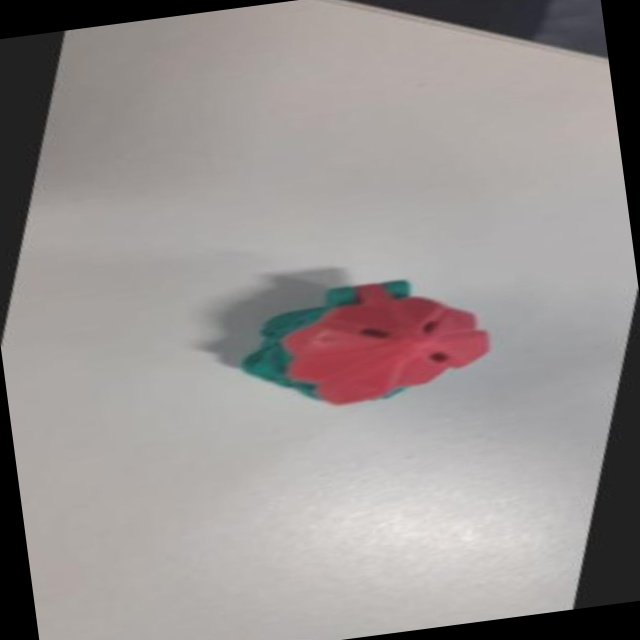House: (200, 252, 526, 433)
